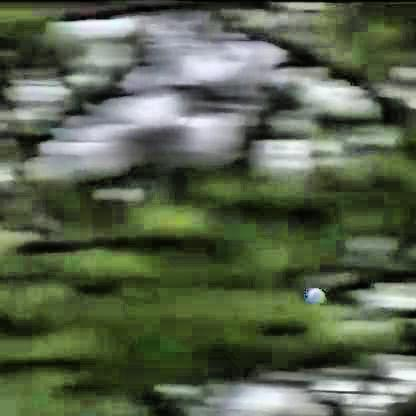golfball: (303, 285, 325, 303)
